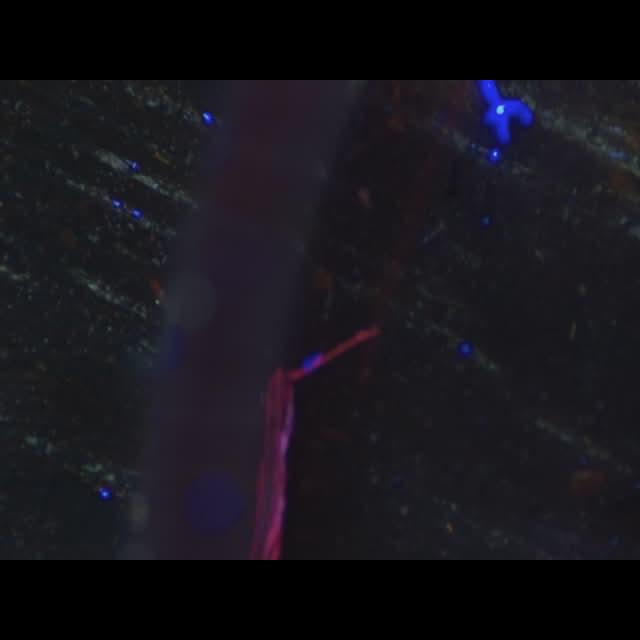Fibre: (286, 322, 378, 384)
